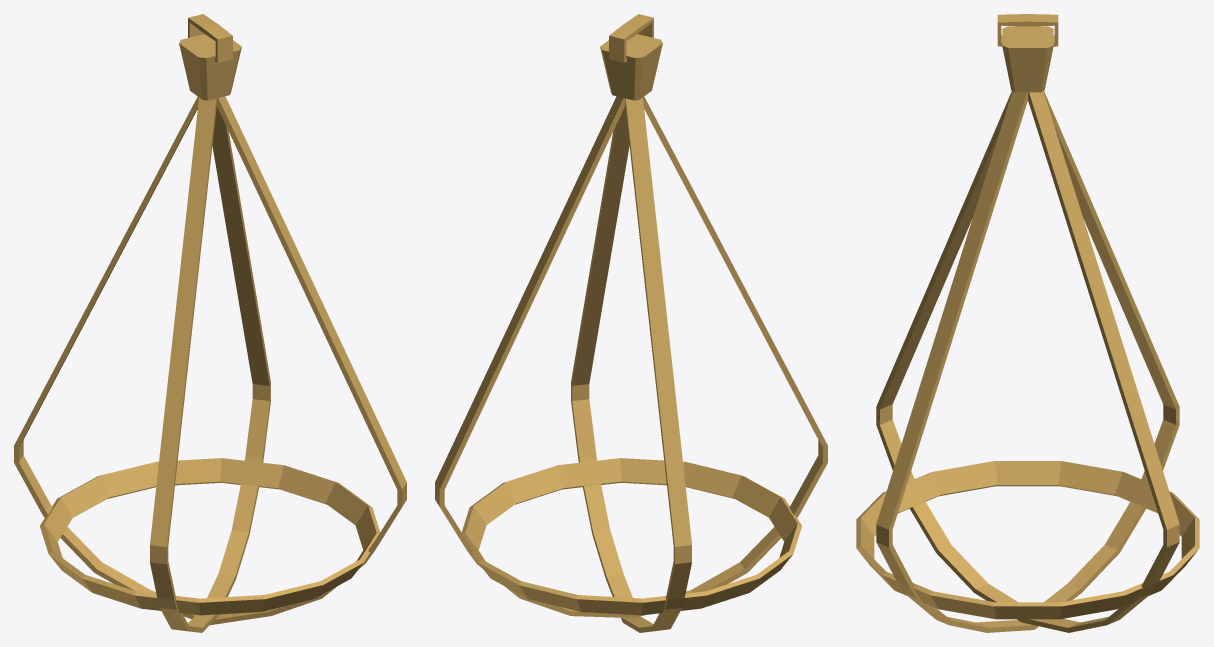
File: SM_Vendor_Sling_02.fbx
3 views of the same model, side by side, from view 1: azimuth 30°, elevation 25°; view 2: azimuth 150°, elevation 25°; view 3: azimuth 270°, elevation 25° (orthographic). The views are drawn at different scales.
Parts seen in each view (by area): view 1: SM_Vendor_Sling_02; view 2: SM_Vendor_Sling_02; view 3: SM_Vendor_Sling_02.
Boxes of the visible parts, x1,y1,x2,y2 form: SM_Vendor_Sling_02: (14, 14, 406, 632); SM_Vendor_Sling_02: (435, 14, 827, 632); SM_Vendor_Sling_02: (856, 14, 1199, 632).
Bounding box in the file's own units: 0.4522 × 0.886 × 0.4522.
Materials: 1 (1 with a texture image).
